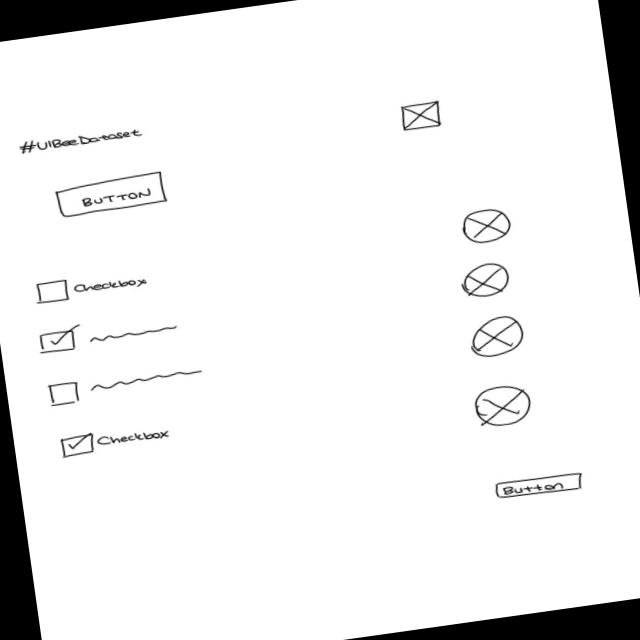button: (54, 171, 170, 221), (494, 471, 587, 503)
checkbox: (48, 363, 207, 410), (37, 311, 181, 357), (59, 422, 176, 462), (35, 268, 153, 307)
image: (473, 383, 537, 432), (467, 314, 529, 363), (459, 206, 515, 248), (460, 261, 513, 301), (400, 101, 444, 135)
label: (16, 123, 147, 159)
